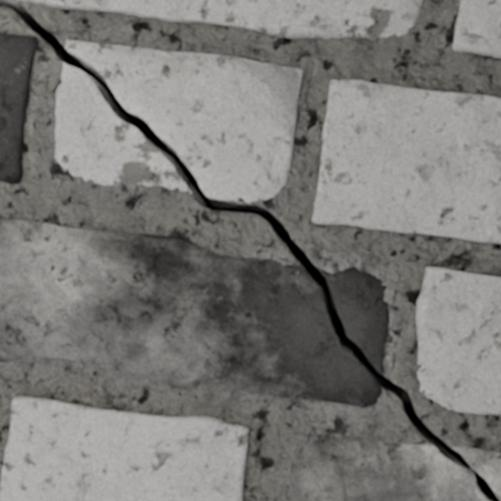brick: (312, 80, 500, 243), (0, 395, 249, 500), (13, 0, 421, 39), (415, 266, 500, 414), (0, 33, 39, 183), (452, 0, 500, 58)
broken_brick: (0, 216, 380, 405), (66, 40, 302, 203), (55, 63, 192, 193), (288, 435, 489, 500), (317, 267, 388, 374), (451, 445, 500, 500)
crack: (0, 0, 498, 500)
